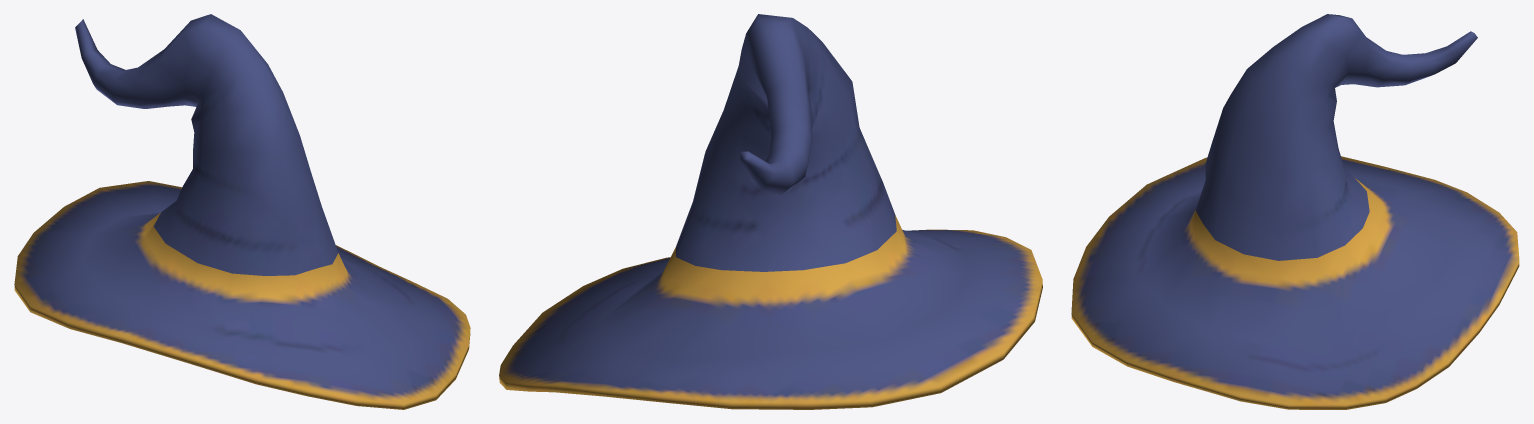
Rendered from _headwear_008.fbx.
3 views of the same model, side by side, from view 1: azimuth 30°, elevation 25°; view 2: azimuth 150°, elevation 25°; view 3: azimuth 270°, elevation 25° (orthographic). The views are drawn at different scales.
Parts seen in each view (by area): view 1: f_headwear_008; view 2: f_headwear_008; view 3: f_headwear_008.
Boxes of the visible parts, x1=… form: f_headwear_008: x1=14, y1=14, x2=470, y2=409; f_headwear_008: x1=499, y1=14, x2=1042, y2=409; f_headwear_008: x1=1071, y1=14, x2=1519, y2=409.
Size of the model in its own units: 40.71 by 31.46 by 42.53.
